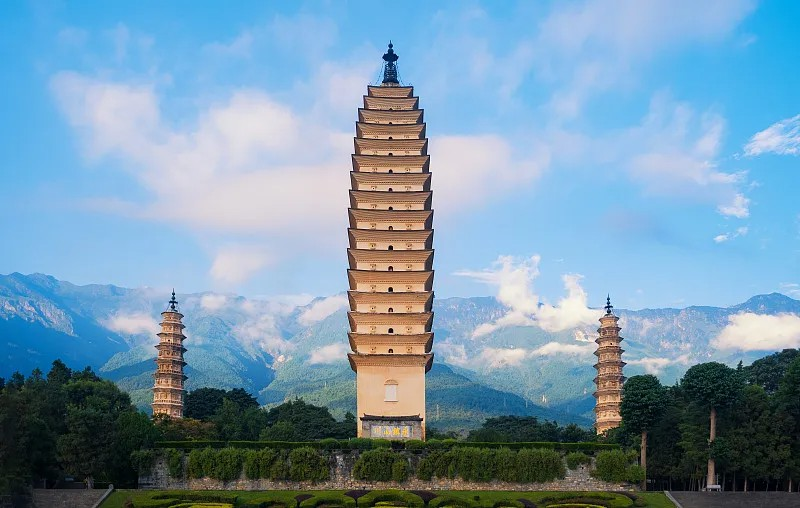ThreePagoda: (346, 40, 434, 437)
